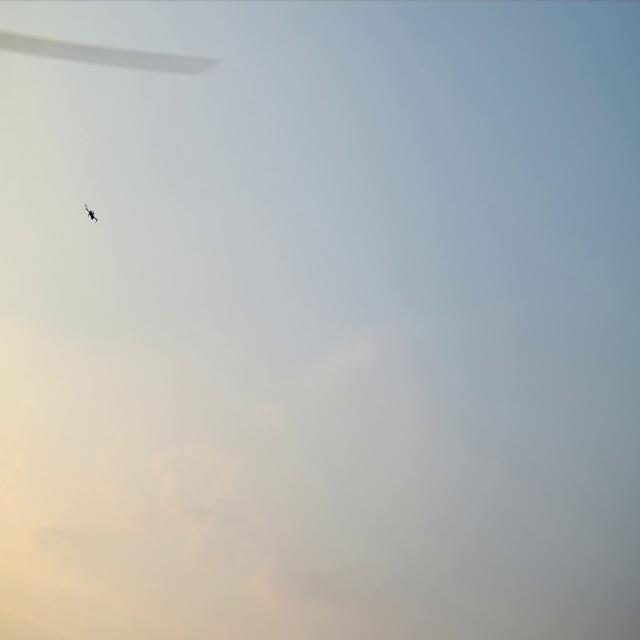UAV: (85, 206, 96, 222)
